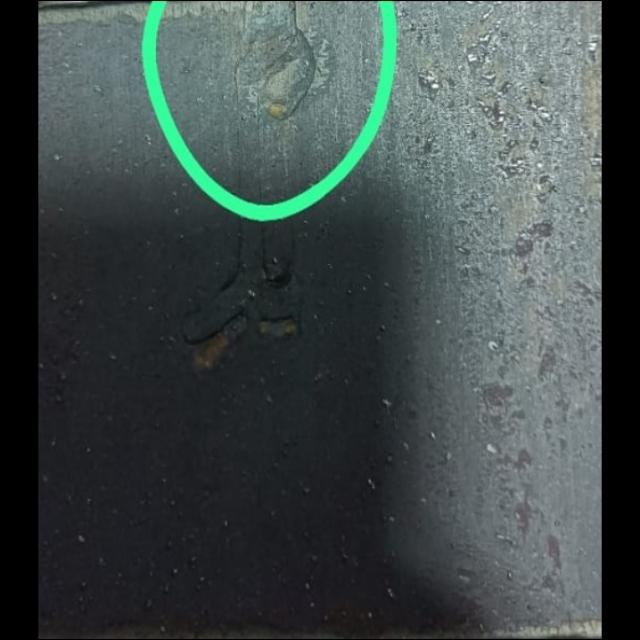defect: (184, 219, 300, 370), (234, 3, 318, 202)
